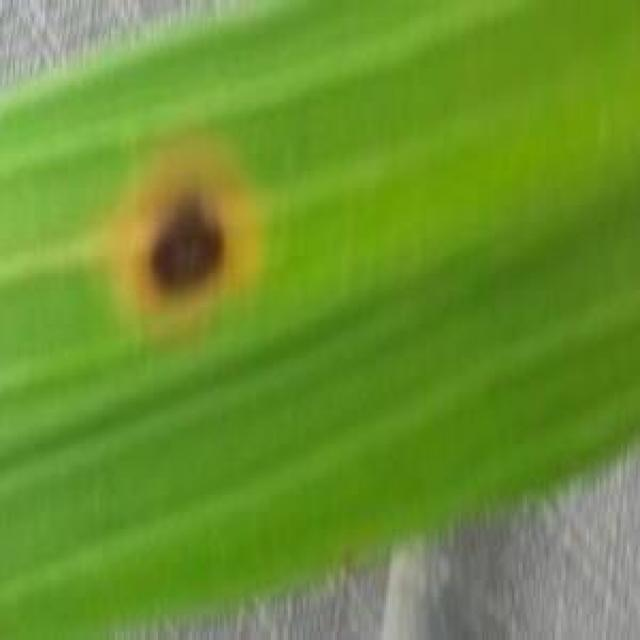brownspots: (120, 188, 260, 296)
